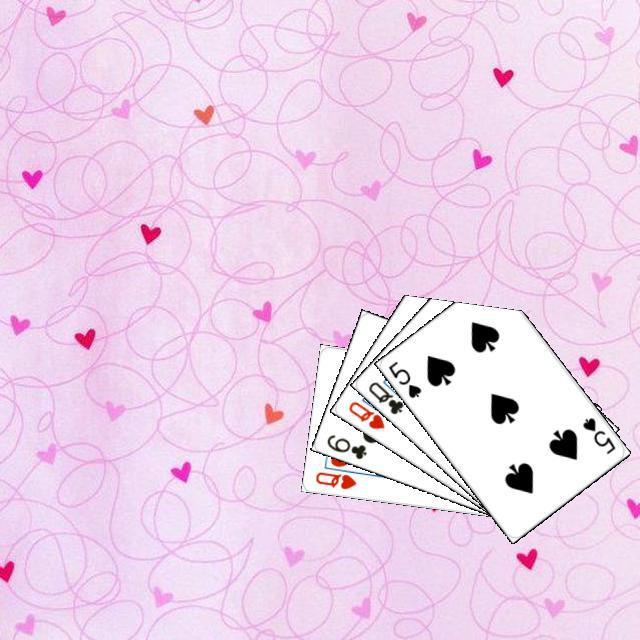5s: (383, 356, 423, 400), (577, 413, 617, 456)
6c: (322, 430, 368, 461)
Qc: (363, 374, 413, 416)
Qh: (343, 396, 387, 431), (310, 467, 358, 491)
